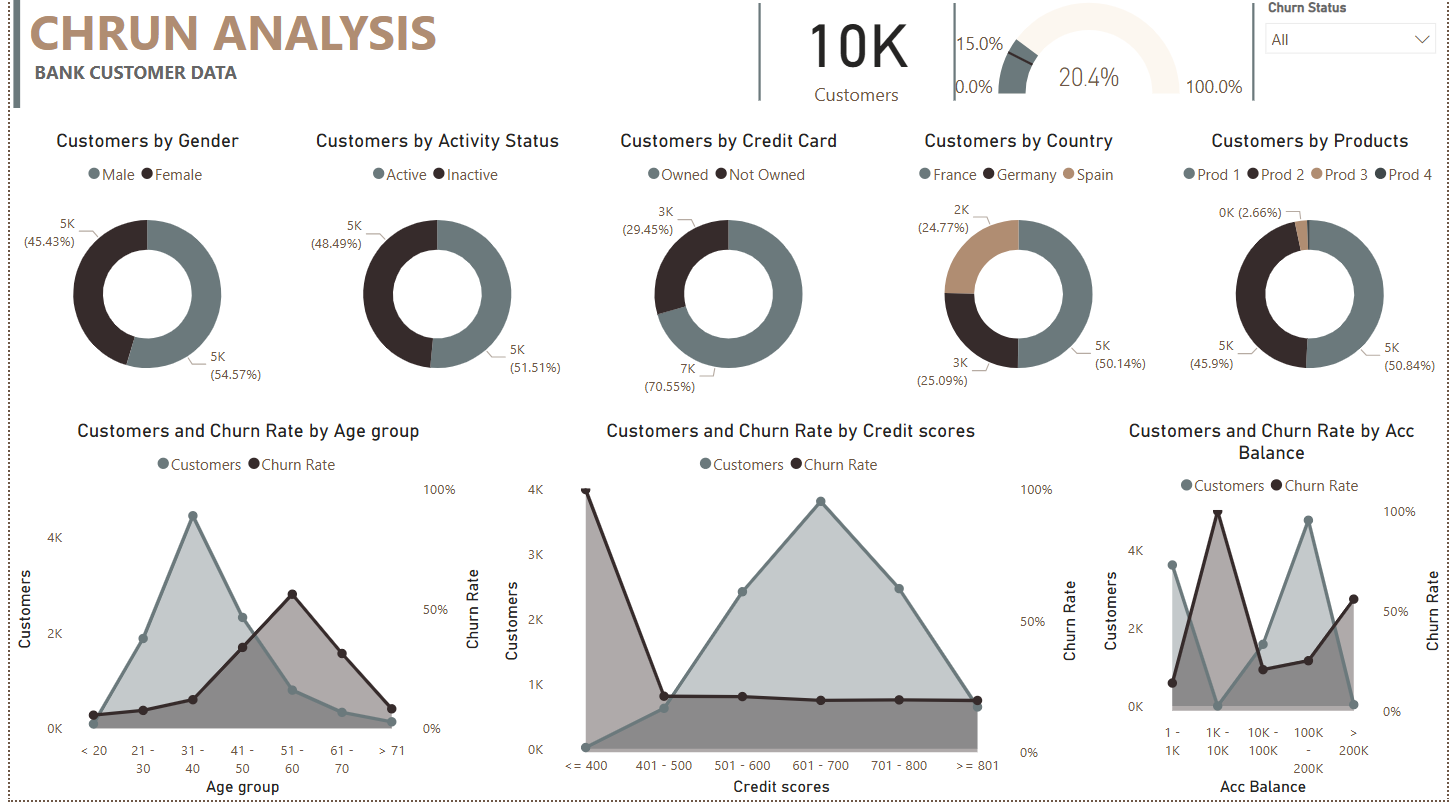

What the dashboard file says about the page in this screenshot:
{"tool":"powerbi","page":{"name":"DASHBOARD","canvas":[1280,720],"ordinal":1},"visuals":[{"type":"shape","box":[0,0,1280,102.5],"z":0},{"type":"card","fields":{"Values":["Customar Data.Customers"]},"box":[676.8,0,154.4,102.5],"z":1000},{"type":"donutChart","fields":{"Category":["Customar Data.Gender"],"Y":["Customar Data.Customers"]},"box":[0,121.9,244.9,244.9],"z":2000},{"type":"donutChart","fields":{"Y":["Customar Data.Customers"],"Category":["Customar Data.Activity Status"]},"box":[258.8,121.9,244.9,244.9],"z":3000},{"type":"donutChart","fields":{"Y":["Customar Data.Customers"],"Category":["Customar Data.Credit Card"]},"box":[517.6,121.9,244.9,244.9],"z":4000},{"type":"donutChart","fields":{"Y":["Customar Data.Customers"],"Category":["Customar Data.Country"]},"box":[776.3,121.9,244.9,244.9],"z":5000},{"type":"donutChart","fields":{"Y":["Customar Data.Customers"],"Category":["Customar Data.Products"]},"box":[1035.1,121.9,244.9,244.9],"z":6000},{"type":"areaChart","fields":{"Category":["Age group.Age group"],"Y":["Customar Data.Customers"],"Y2":["Customar Data.Churn Rate"]},"box":[0,380,424.7,340.2],"z":7000},{"type":"areaChart","fields":{"Category":["Credit Score Group.Credit scores"],"Y":["Customar Data.Customers"],"Y2":["Customar Data.Churn Rate"]},"box":[434.3,380,522.4,340.2],"z":8000},{"type":"areaChart","fields":{"Category":["Acc Balance group.Acc Balance"],"Y":["Customar Data.Customers"],"Y2":["Customar Data.Churn Rate"]},"box":[967.6,380,312.5,340.2],"z":9000},{"type":"slicer","fields":{"Values":["Customar Data.Churn Status"]},"box":[1107.5,1.2,172.5,101.3],"z":10000},{"type":"gauge","fields":{"Y":["Customar Data.Churn Rate"],"MaxValue":["Max(Customar Data.Max Churn Rate)"],"MinValue":["Min(Customar Data.Min Churn Rate)"],"TargetValue":["Max(Customar Data.Target Churn Rate)"]},"box":[831.2,1.2,276.3,101.3],"z":11000},{"type":"textbox","box":[12.1,0,392.1,86.9],"z":12000},{"type":"textbox","box":[16.9,54.3,212.3,48.3],"z":13000},{"type":"shape","box":[657.5,8.4,19.3,86.9],"z":14000},{"type":"shape","box":[0,0,12.1,102.5],"z":15000},{"type":"shape","box":[1097.9,8.4,19.3,86.9],"z":16000},{"type":"shape","box":[831.2,8.4,19.3,86.9],"z":17000}]}

Visuals, with their boxes in screenshot pixels (x1, y1, x2, y2), scaled from the page's 1280x720 canvas onto the 1452x802 screenshot:
shape: {"x1": 0, "y1": 0, "x2": 1451, "y2": 114}
card - Customar Data.Customers: {"x1": 768, "y1": 0, "x2": 943, "y2": 114}
donutChart - Customar Data.Gender x Customar Data.Customers: {"x1": 0, "y1": 136, "x2": 278, "y2": 409}
donutChart - Customar Data.Customers x Customar Data.Activity Status: {"x1": 294, "y1": 136, "x2": 571, "y2": 409}
donutChart - Customar Data.Customers x Customar Data.Credit Card: {"x1": 587, "y1": 136, "x2": 865, "y2": 409}
donutChart - Customar Data.Customers x Customar Data.Country: {"x1": 881, "y1": 136, "x2": 1158, "y2": 409}
donutChart - Customar Data.Customers x Customar Data.Products: {"x1": 1174, "y1": 136, "x2": 1451, "y2": 409}
areaChart - Age group.Age group x Customar Data.Customers: {"x1": 0, "y1": 423, "x2": 482, "y2": 801}
areaChart - Credit Score Group.Credit scores x Customar Data.Customers: {"x1": 493, "y1": 423, "x2": 1085, "y2": 801}
areaChart - Acc Balance group.Acc Balance x Customar Data.Customers: {"x1": 1098, "y1": 423, "x2": 1451, "y2": 801}
slicer - Customar Data.Churn Status: {"x1": 1256, "y1": 1, "x2": 1451, "y2": 114}
gauge - Customar Data.Churn Rate x Max(Customar Data.Max Churn Rate): {"x1": 943, "y1": 1, "x2": 1256, "y2": 114}
textbox: {"x1": 14, "y1": 0, "x2": 459, "y2": 97}
textbox: {"x1": 19, "y1": 60, "x2": 260, "y2": 114}
shape: {"x1": 746, "y1": 9, "x2": 768, "y2": 106}
shape: {"x1": 0, "y1": 0, "x2": 14, "y2": 114}
shape: {"x1": 1245, "y1": 9, "x2": 1267, "y2": 106}
shape: {"x1": 943, "y1": 9, "x2": 965, "y2": 106}
